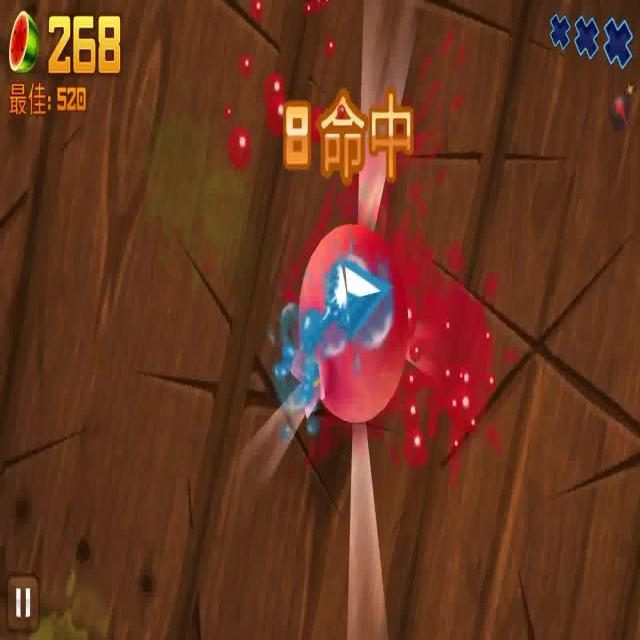fruit: (298, 226, 416, 432)
